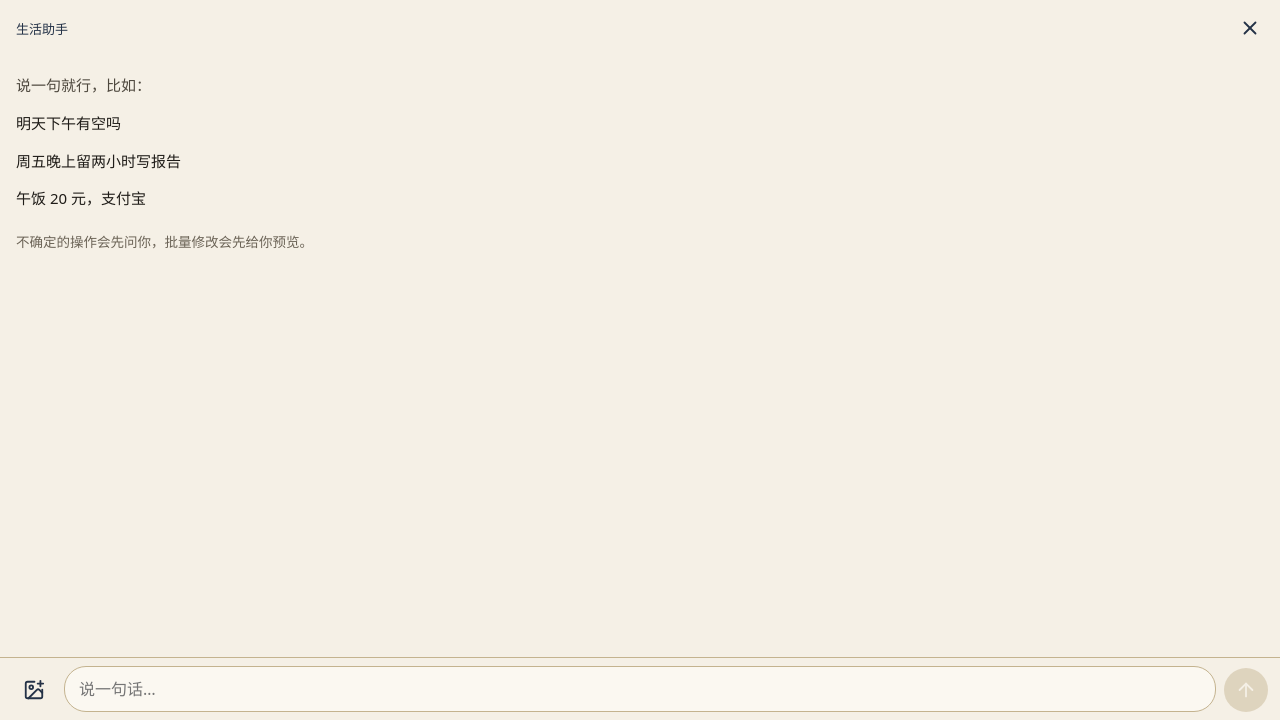
Test: assistant connection failures and visible continuation › allows replacing the visible draft with a new topic without merging the failed instruction
The width and height of the screenshot is (1280, 720).
In the text box named "对生活助手说": (640, 689) [64,666,1216,712], type "明天中午12:00-13:45到滋兰苑集合"
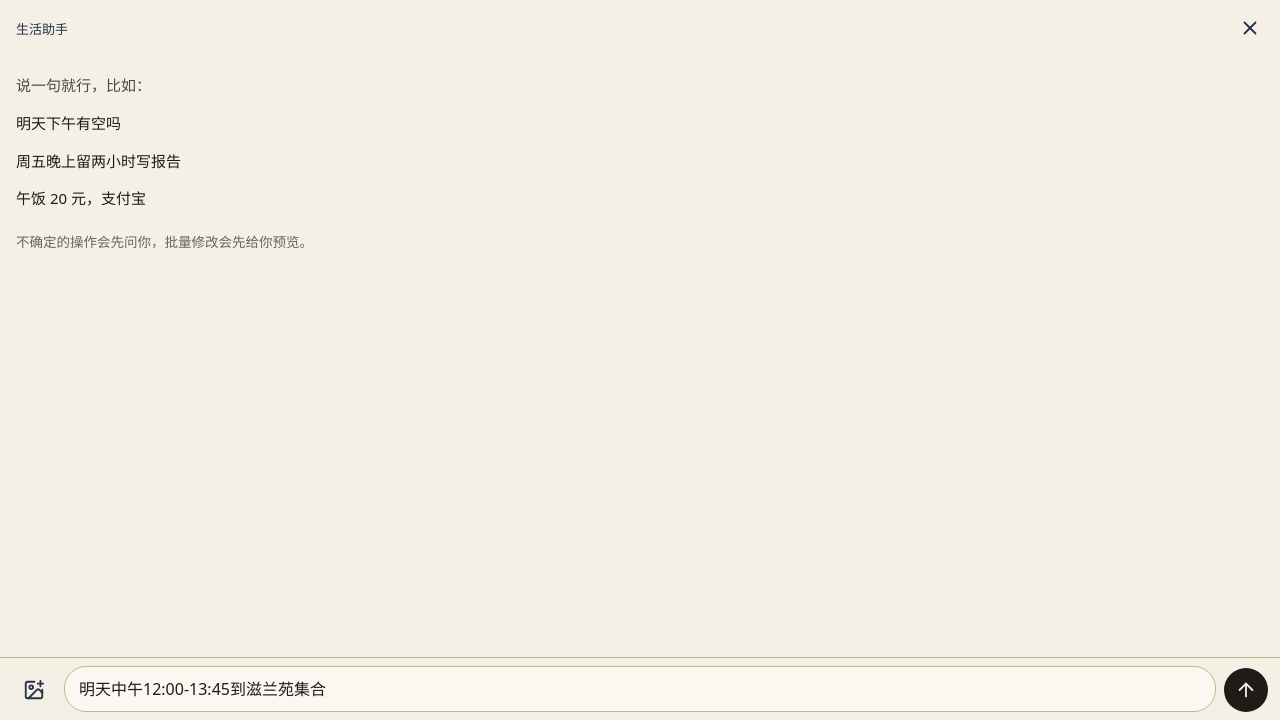
Click the button named "发送": (1246, 690) [1224,668,1268,712]
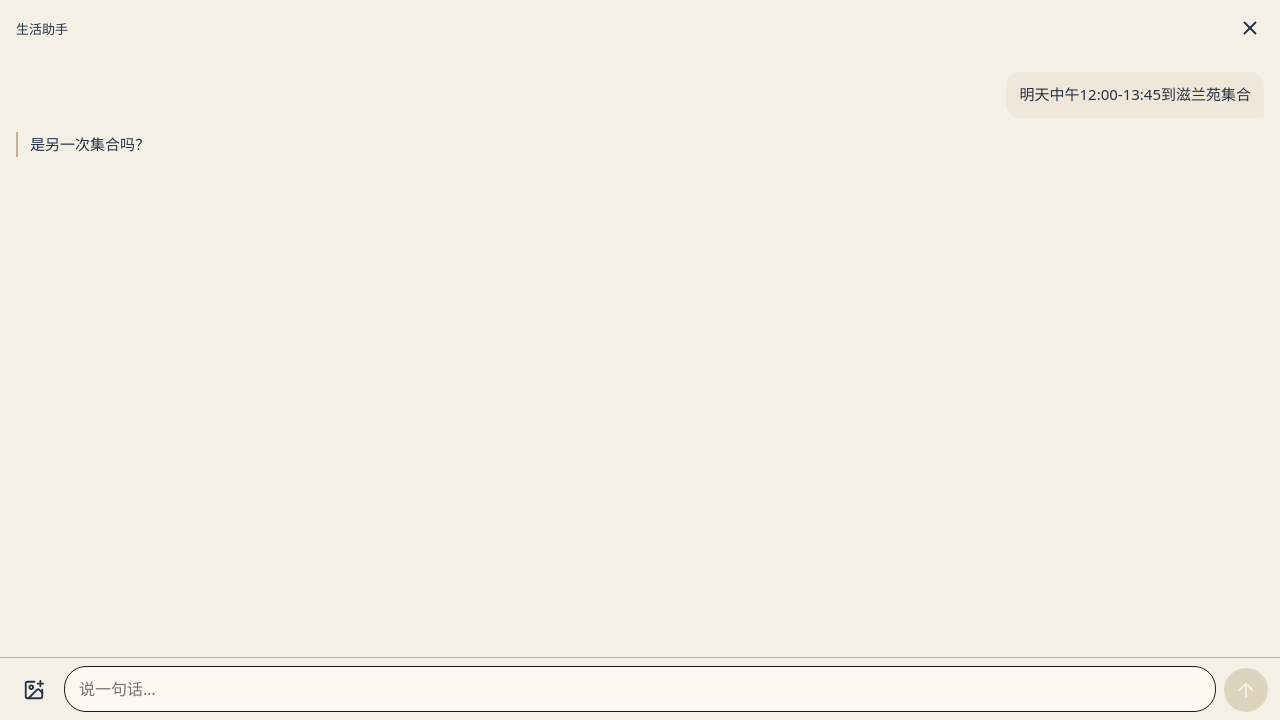
In the text box named "对生活助手说": (640, 689) [64,666,1216,712], type "28号中午"
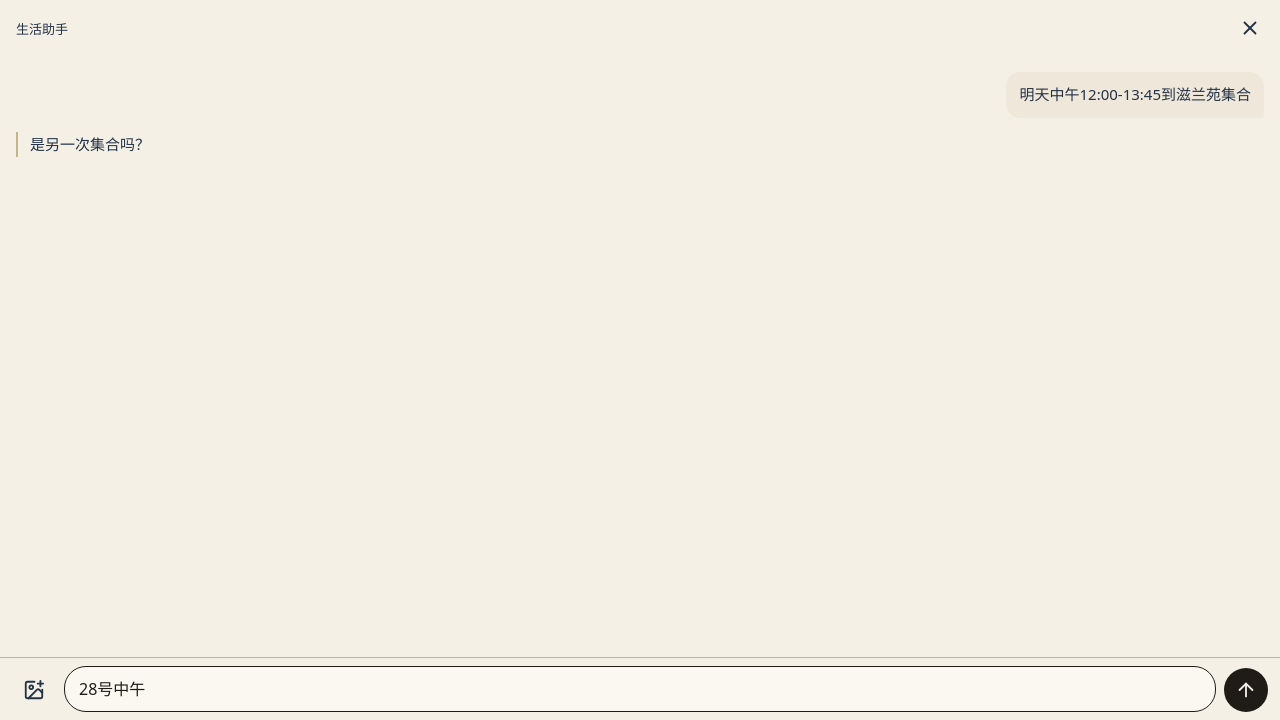
Click the button named "发送": (1246, 690) [1224,668,1268,712]
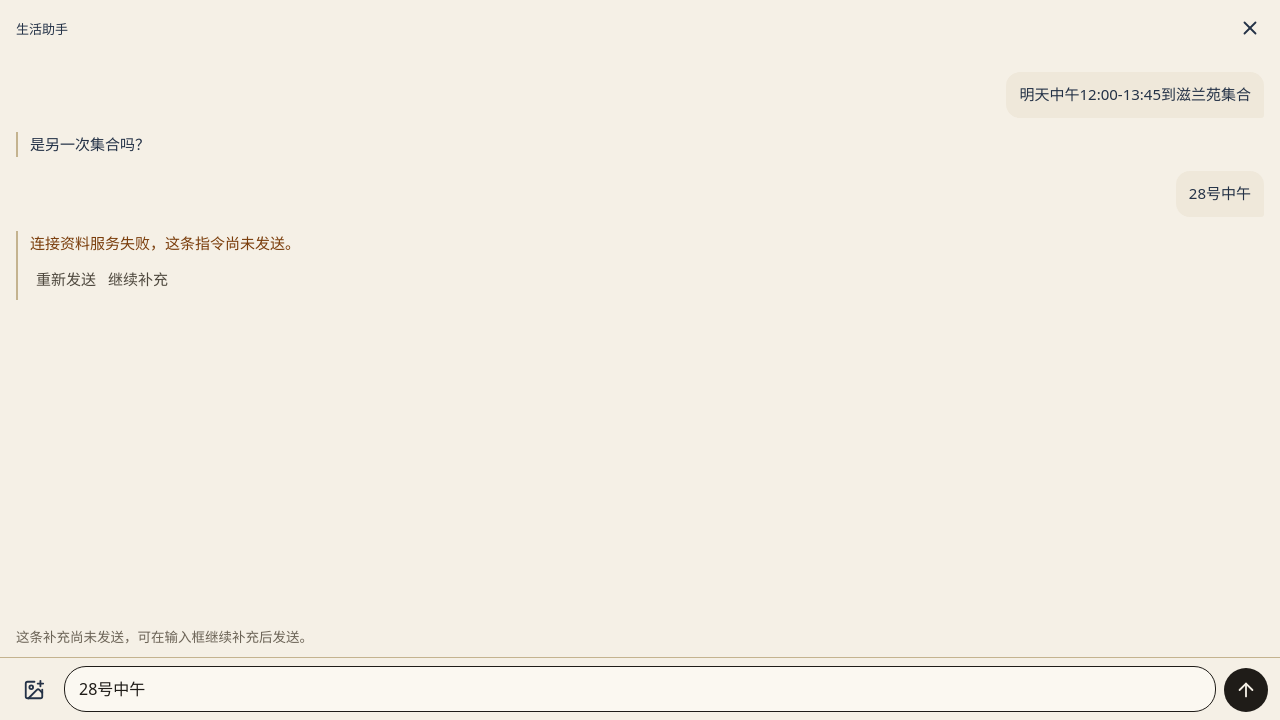
Replace the text in the text box named "对生活助手说" with "今天是星期几": (640, 689) [64,666,1216,712]
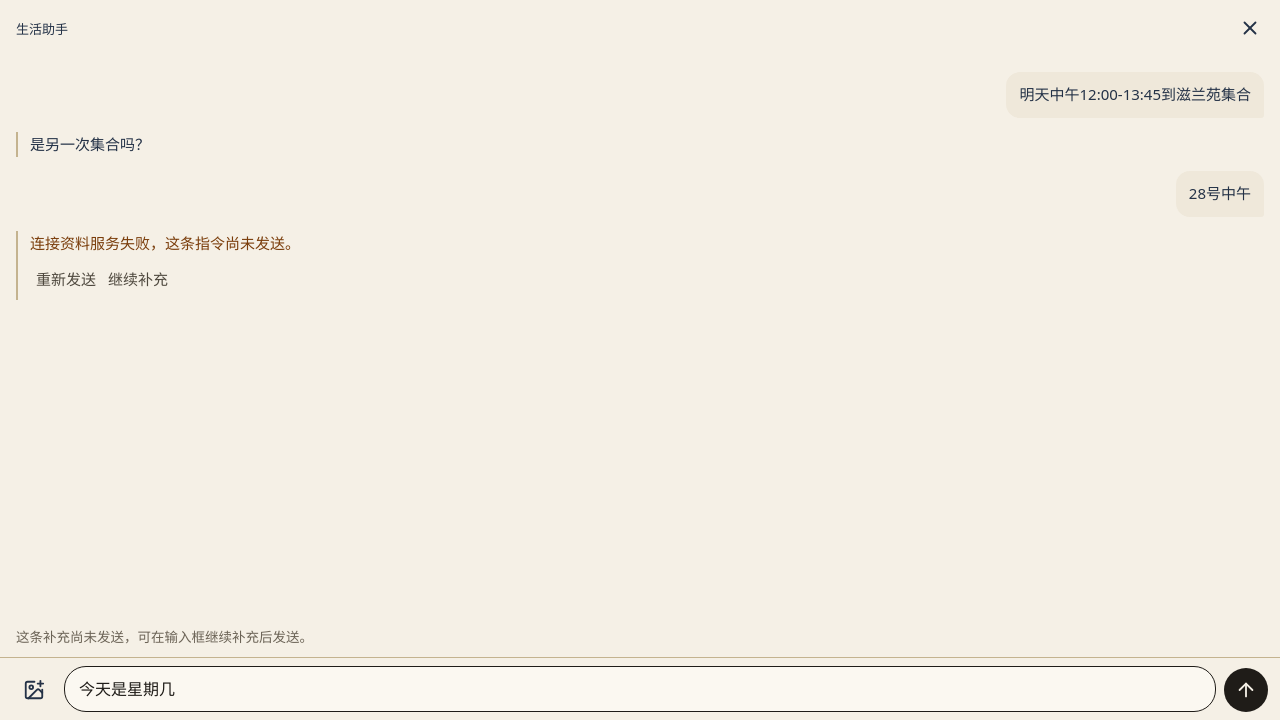
Click the button named "发送": (1246, 690) [1224,668,1268,712]
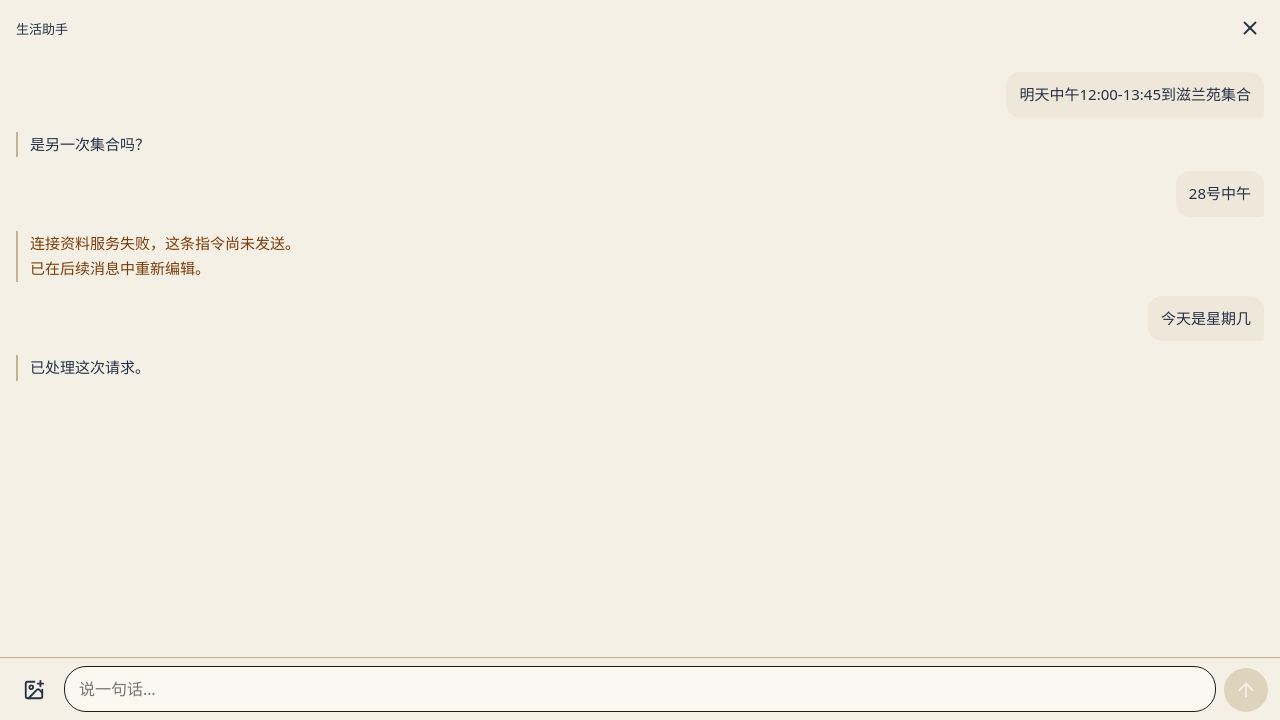
Now the text "今天是星期几" is shown, box [1161,306,1251,331]
